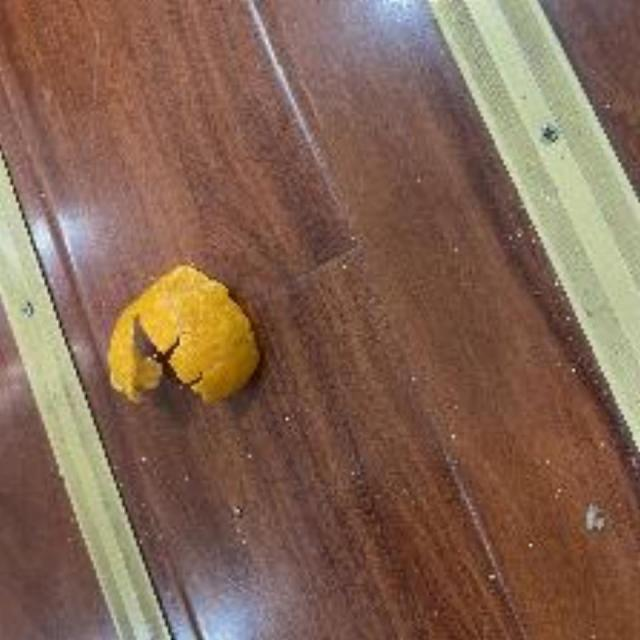orange-peel: (102, 259, 263, 408)
